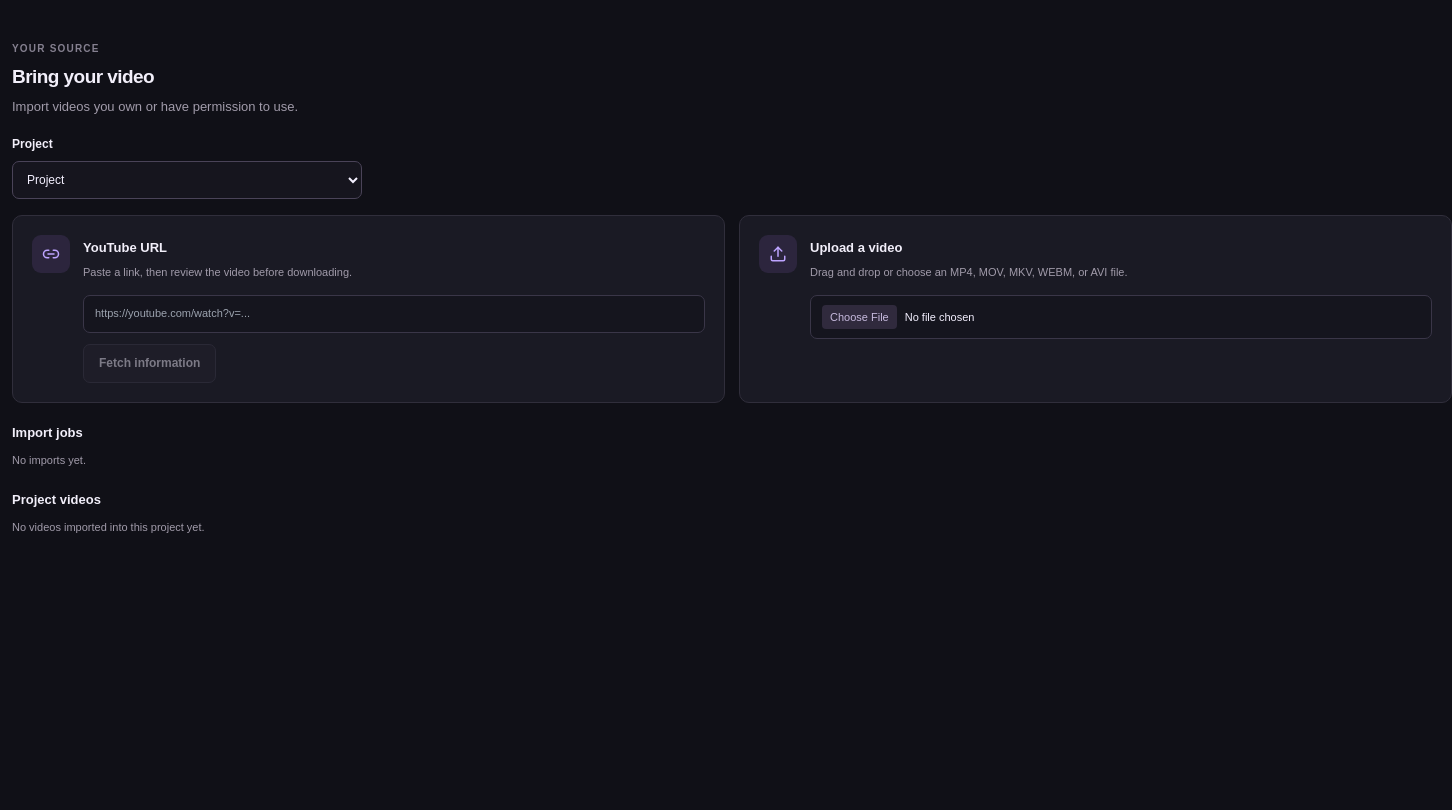
Test case: ingestion panel › fetches and previews YouTube metadata before confirming download
Later steps or results of the test are not shown.
Type "https://youtu.be/abcdefghijk" into the field labelled "YouTube URL" at (394, 314), box x1=83 y1=295 x2=705 y2=333
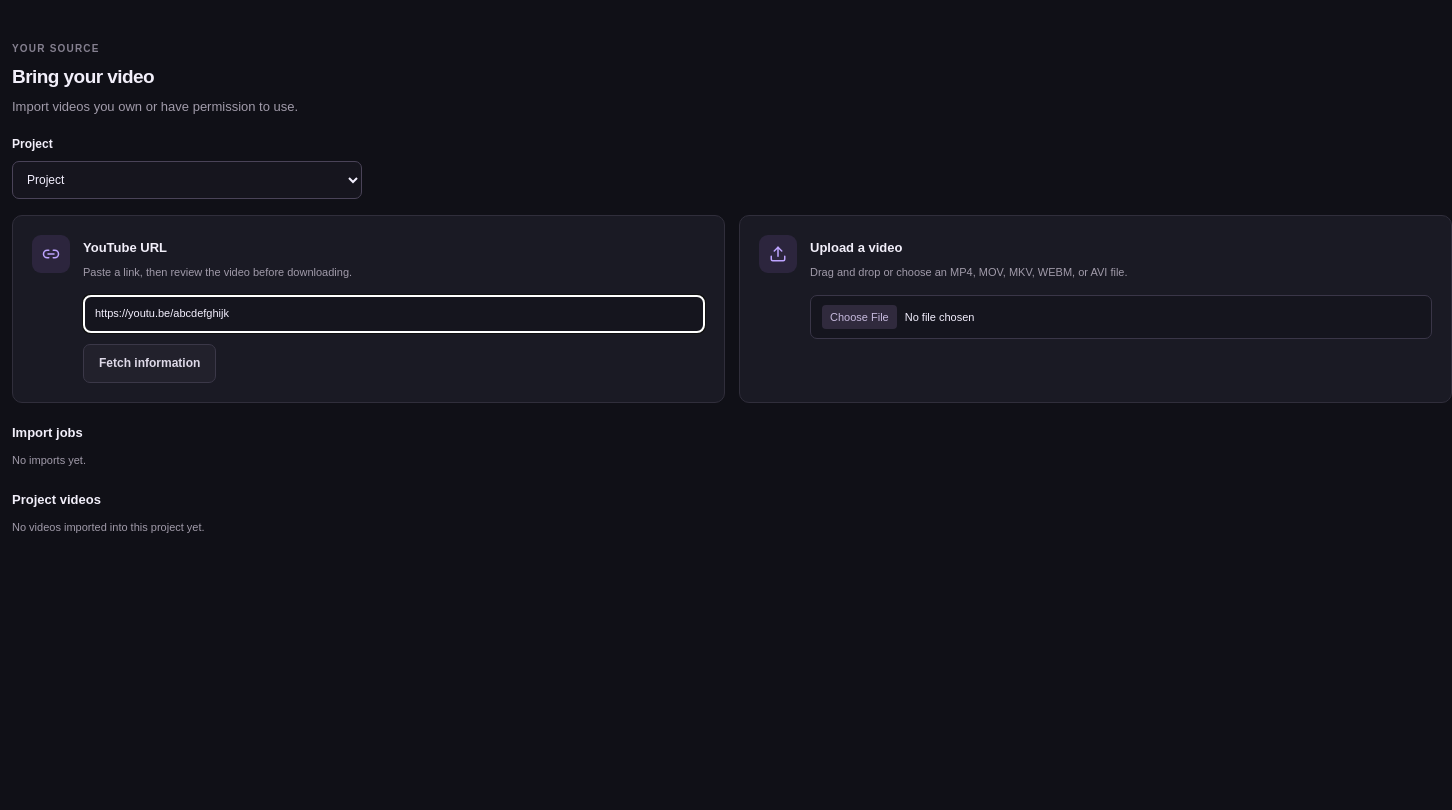
Click the button "Fetch information" at (150, 363), box x1=83 y1=344 x2=216 y2=383
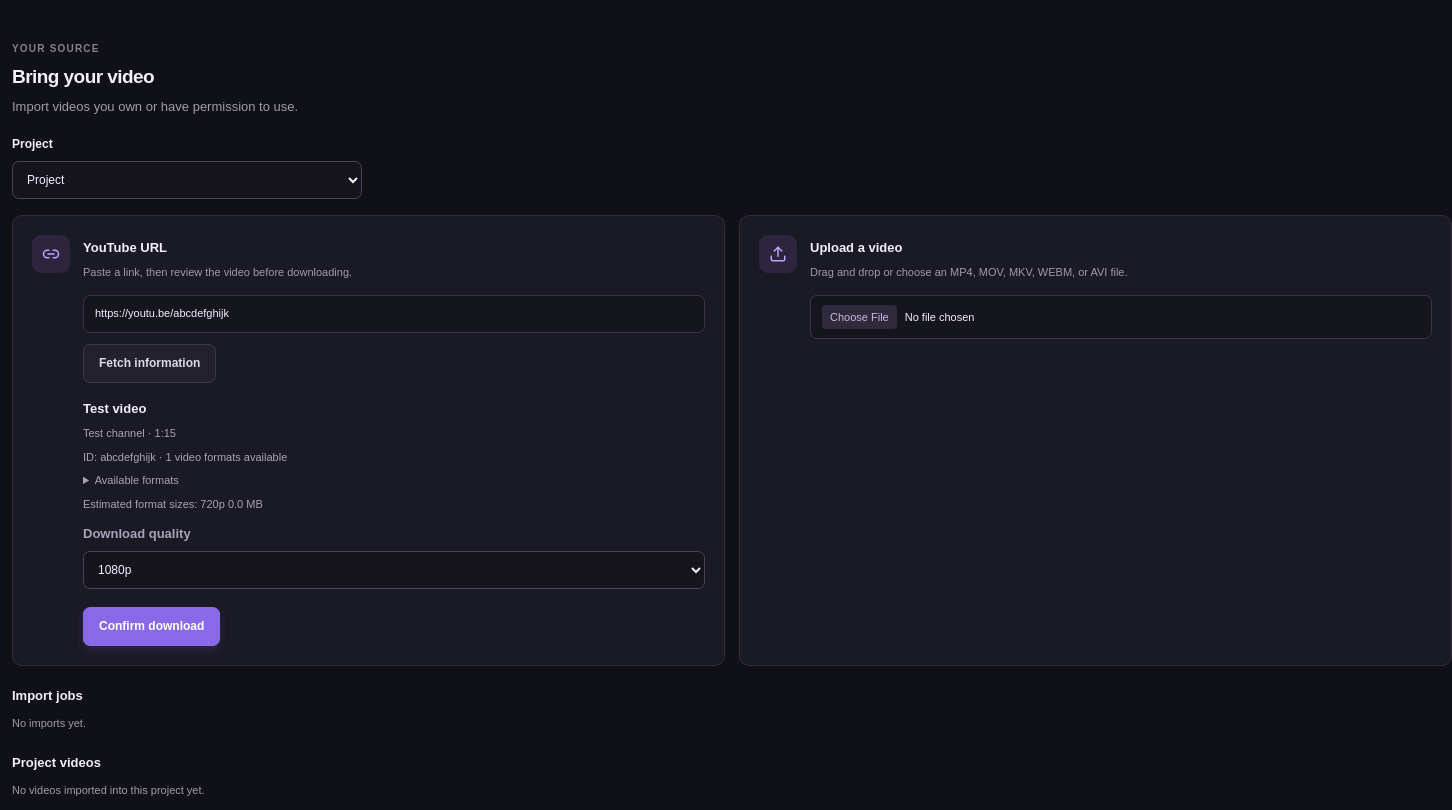
Expected: the text "Test video" is shown, x1=83 y1=399 x2=146 y2=418
Expected: the text "Test channel · 1:15" is shown, x1=83 y1=425 x2=176 y2=442
